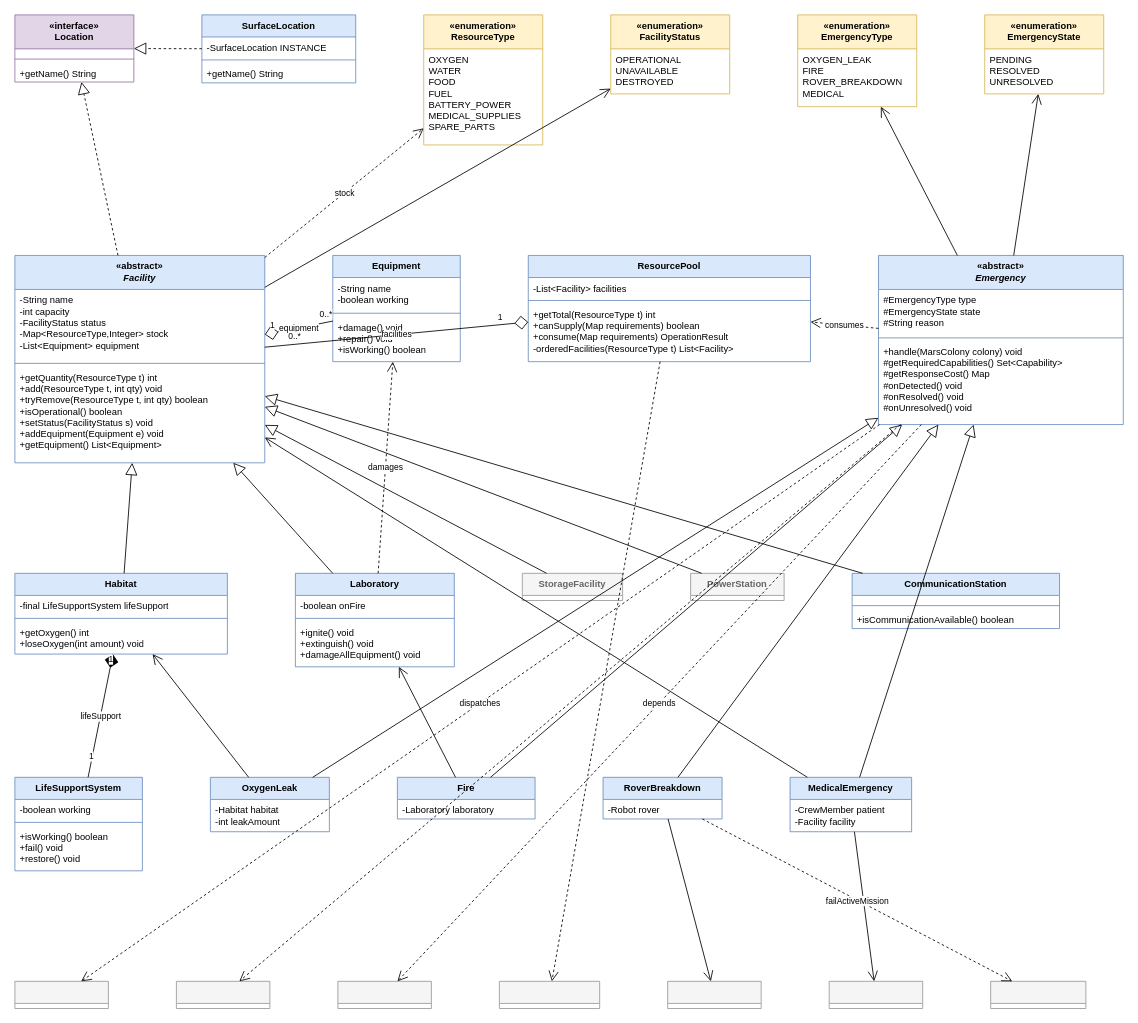
Some shapes in this 1138 by 1023 pixel diagram are drawn without their labels. Each missing label, with the centre of its shape:
Agent: the point at 61,994
Capability: the point at 223,994
CrewMember: the point at 875,994
MarsColony: the point at 384,994
MissionManager: the point at 1038,994
OperationResult: the point at 549,994
Robot: the point at 714,994
